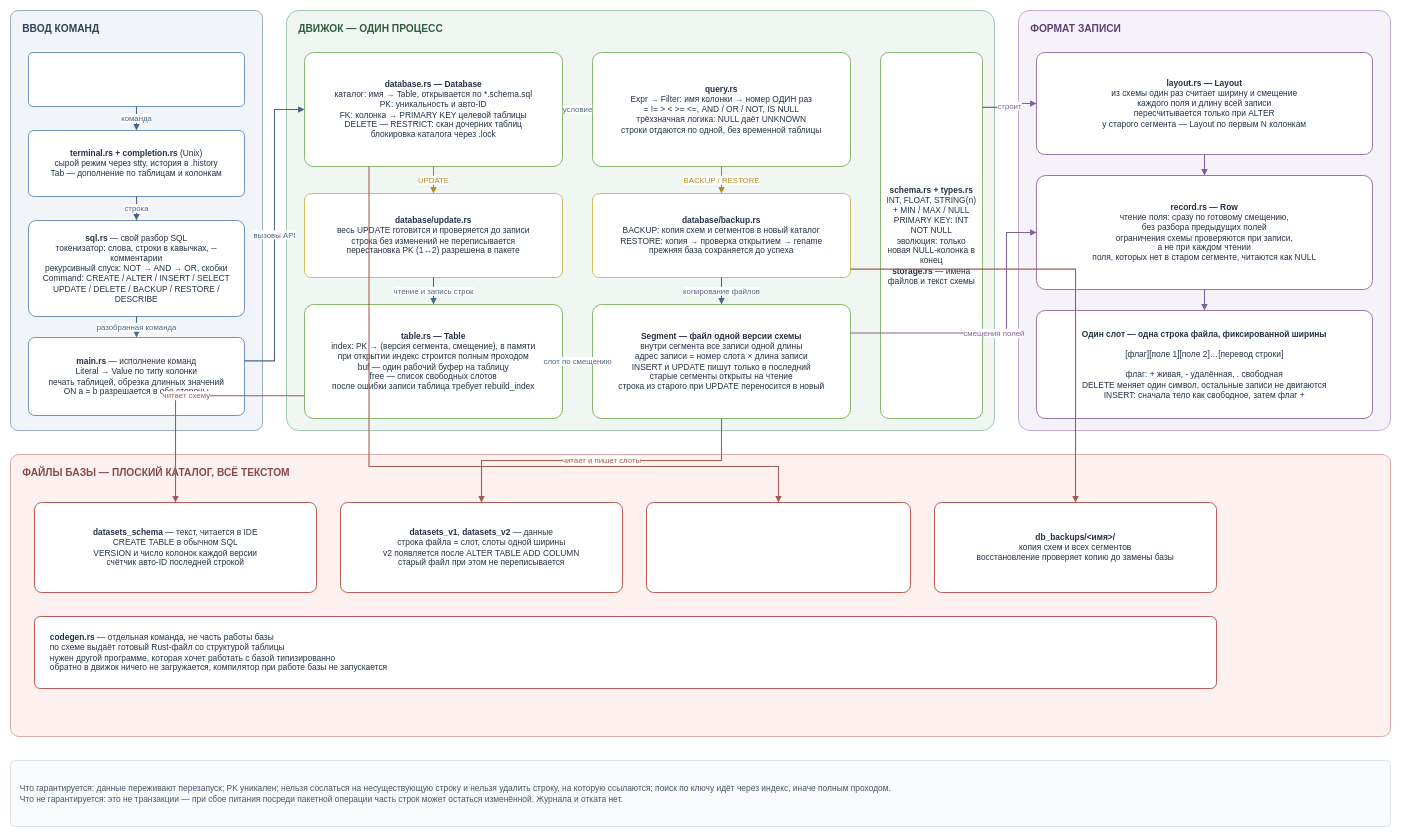
Some shapes in this 1402 by 838 pixel diagram are drawn without their labels. Here are the shapes that lost their labels. From the top down, the centre of each, then its label:
At [136,79]: "Пользователь интерактивно или ./minidb < script".
At [778,547]: ".lock — одна база открыта одним процессом .history — история команд консоли".
